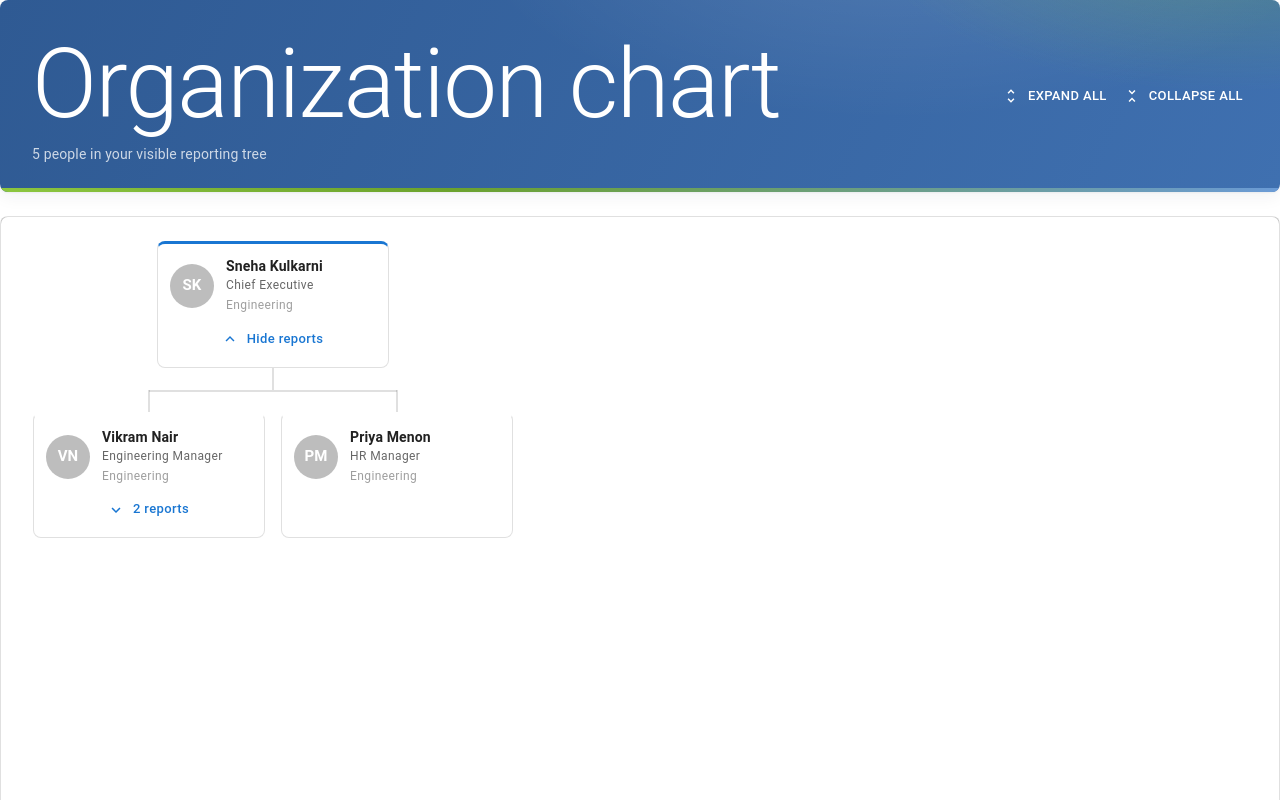
Test case: OrgChartPage › expands the whole tree at once
The image size is (1280, 800).
Click the button "Expand all".
click(1055, 96)  # box 999,81 -> 1112,111
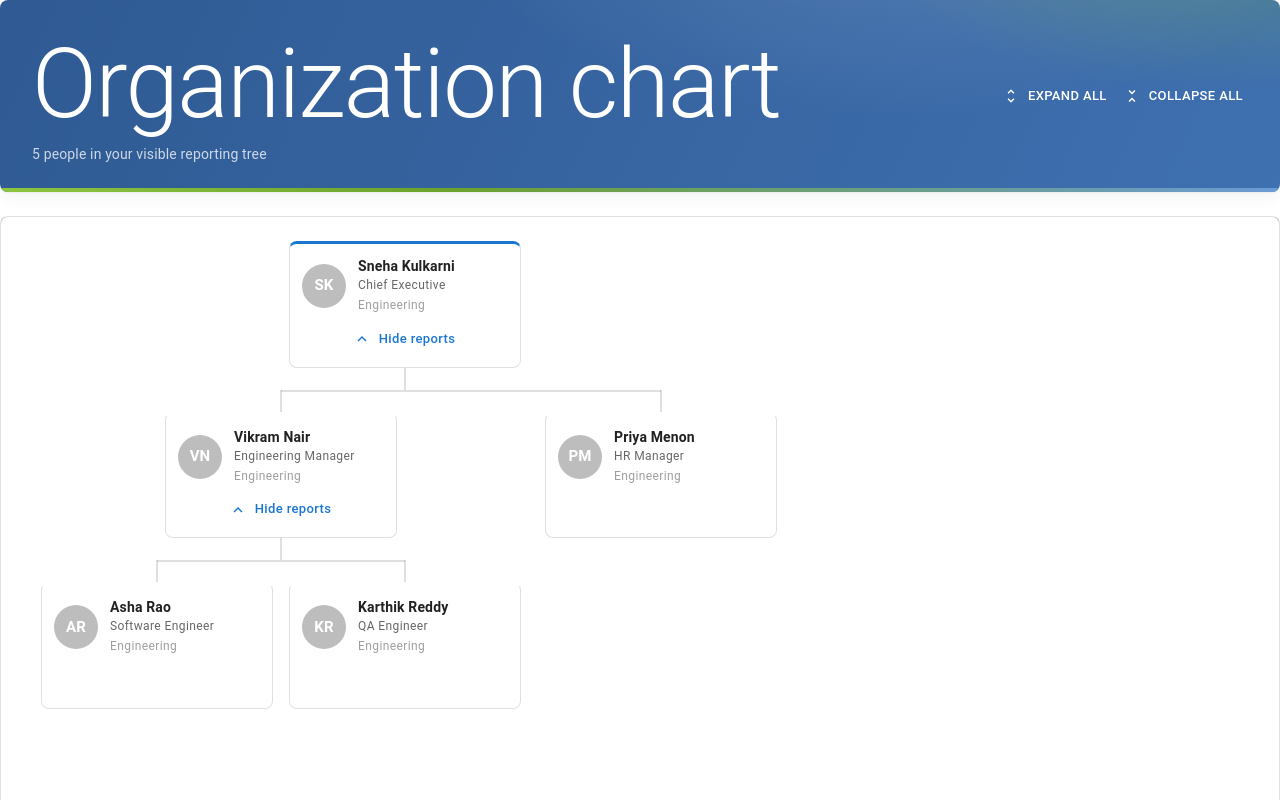
expect the link "Asha Rao" is shown: met, box 110,599 -> 171,615
expect the link "Karthik Reddy" is shown: met, box 358,599 -> 448,615
